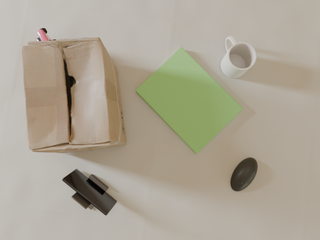book: (136, 47, 243, 153)
box: (21, 38, 126, 153)
cup: (221, 36, 256, 78)
mouse: (231, 158, 257, 191)
phone: (62, 169, 117, 215)
toy_car: (36, 28, 52, 41)
